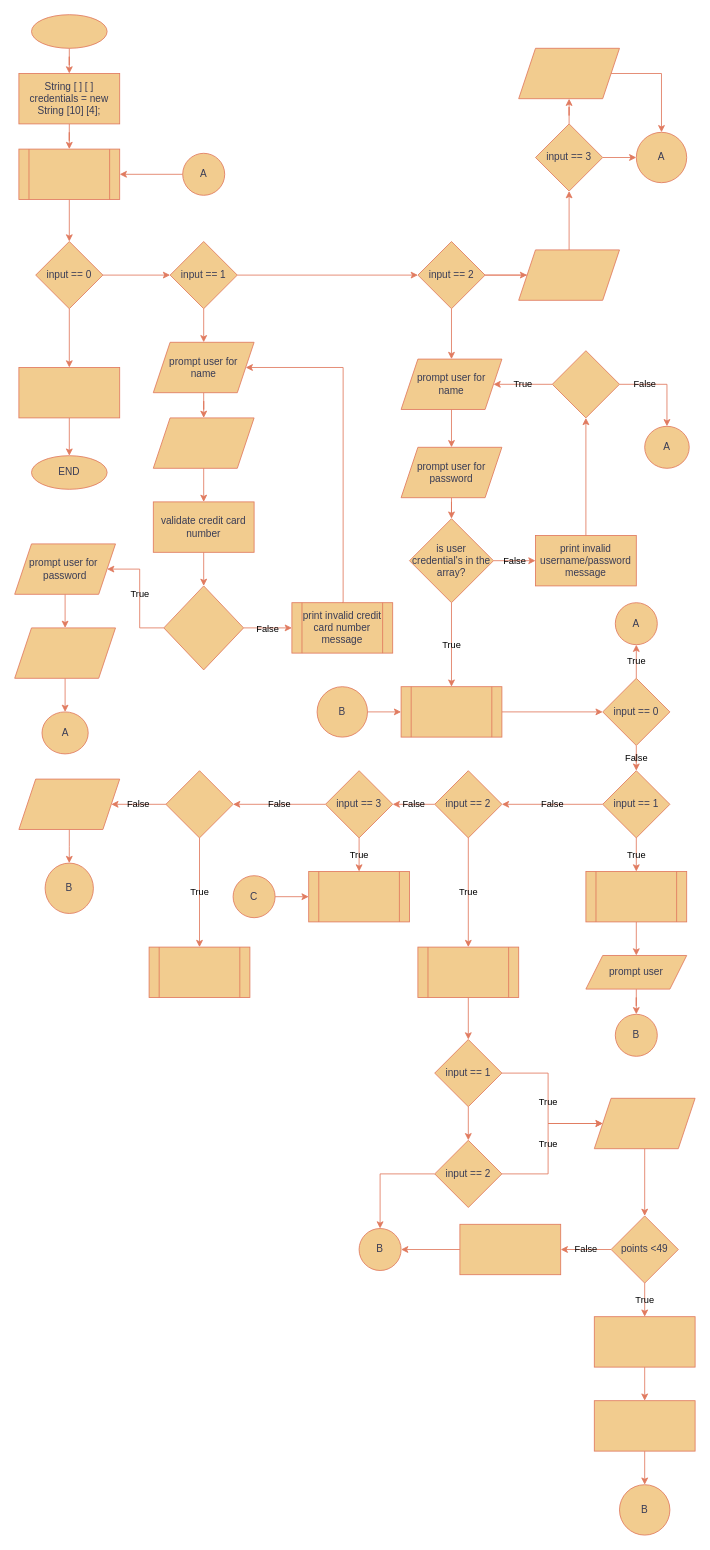
This 710x1550 diagram has some shape labels left out. Here are the shapes that lost their labels. From the top down, the box of each, then its label:
(31, 14, 107, 48): START
(518, 47, 620, 99): Print help page
(18, 148, 120, 200): Print homepage
(18, 367, 120, 418): Print thank you message
(551, 350, 620, 418): retry?
(152, 417, 254, 468): prompt user for credit card number
(163, 585, 244, 670): is credit card number valid?
(14, 627, 116, 678): prompt user if credentials are correct
(400, 686, 502, 737): Print profile page
(18, 778, 120, 830): print invalid input message
(165, 770, 233, 838): input == 4
(585, 871, 687, 922): print user's name and points
(417, 946, 519, 998): print redeem page
(593, 1097, 695, 1149): prompt user to confirm redemption
(459, 1223, 561, 1275): print insufficient points message
(593, 1316, 695, 1367): deduct 50 points from user's points
(593, 1400, 695, 1451): print how to redeem rewards
